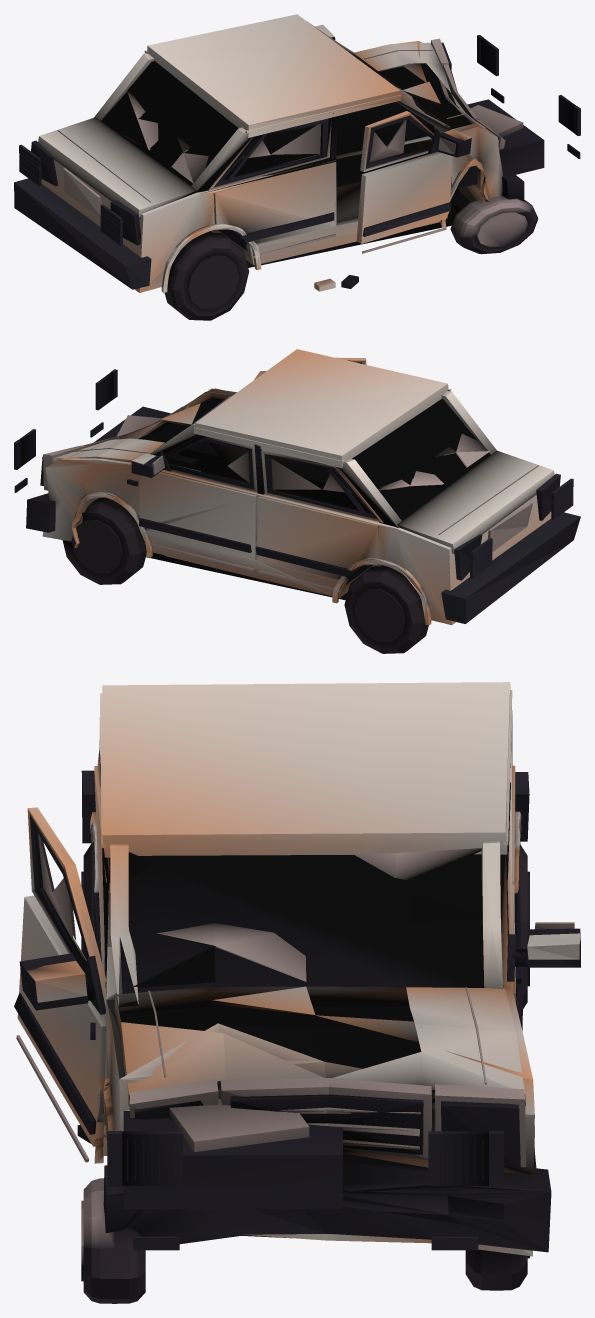
3 views of the same model, one above another, from view 1: azimuth 30°, elevation 25°; view 2: azimuth 150°, elevation 25°; view 3: azimuth 270°, elevation 25° (orthographic). The views are drawn at different scales.
Visible parts, largest first — view 1: body_pal_picketWhite, body_pal_uiDark, body_pal_sidewalk, wheelRL_pal_sidewalk, wheelFL_pal_sidewalk; view 2: body_pal_picketWhite, body_pal_uiDark, body_pal_sidewalk, wheelRR_pal_sidewalk, wheelFR_pal_sidewalk; view 3: body_pal_picketWhite, body_pal_uiDark, body_pal_sidewalk, wheelFL_pal_sidewalk, wheelFR_pal_sidewalk, wheelRR_pal_sidewalk, wheelRL_pal_sidewalk.
Part boxes in pixels (x1,y1,x2,y2): body_pal_picketWhite: (38,14,503,292); body_pal_uiDark: (14,35,580,289); body_pal_sidewalk: (57,38,523,258); wheelRL_pal_sidewalk: (164,232,249,320); wheelFL_pal_sidewalk: (450,196,538,254); body_pal_picketWhite: (42,349,554,625); body_pal_uiDark: (14,362,580,623); body_pal_sidewalk: (43,391,538,591); wheelRR_pal_sidewalk: (344,566,428,653); wheelFR_pal_sidewalk: (62,497,146,584); body_pal_picketWhite: (17,682,580,1256); body_pal_uiDark: (14,763,580,1252); body_pal_sidewalk: (16,833,574,1167); wheelFL_pal_sidewalk: (81,1178,145,1303); wheelFR_pal_sidewalk: (465,1249,529,1290); wheelRR_pal_sidewalk: (518,844,529,1008); wheelRL_pal_sidewalk: (81,842,94,959).
Size of the model in its own units: 4.61 by 1.79 by 2.47.
